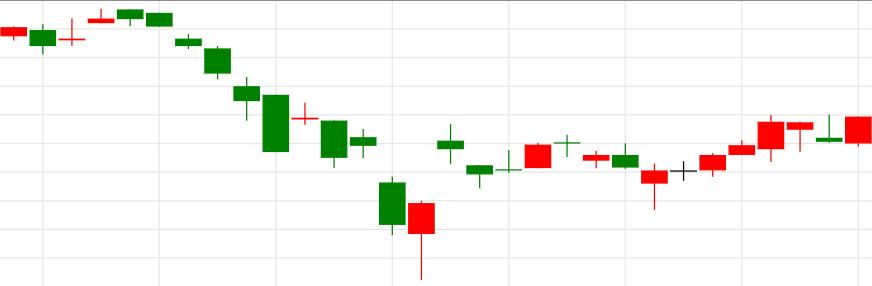hammer_rise: (116, 7, 437, 280)
